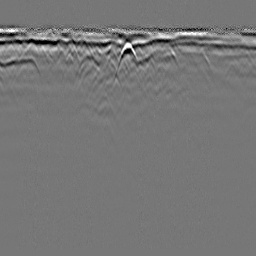cavity: (119, 40, 137, 61)
